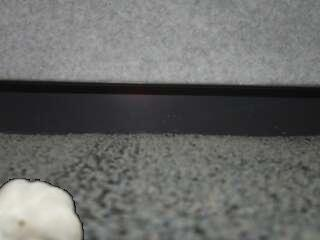Garlic: (0, 178, 84, 240)
